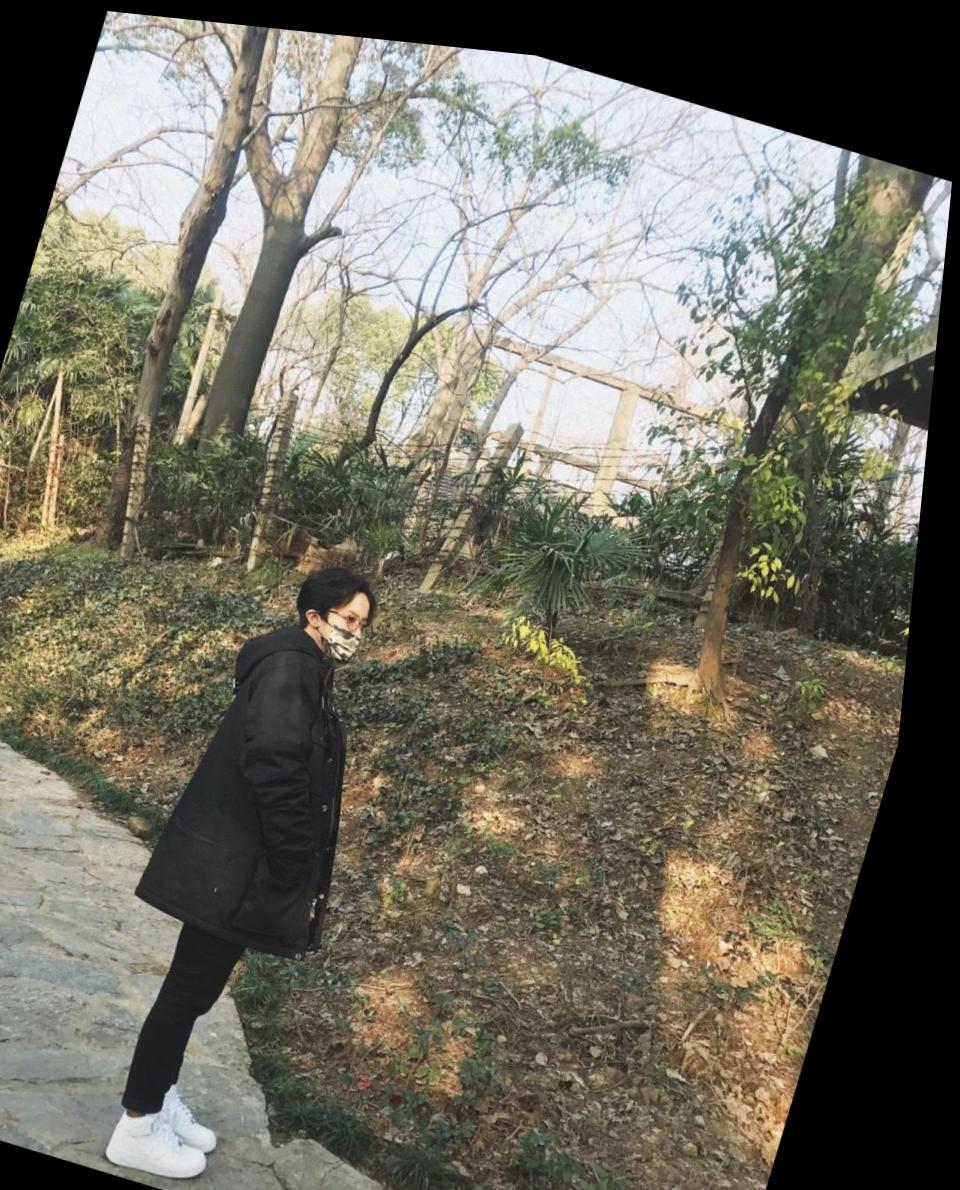WRONG: (328, 586, 386, 661)
